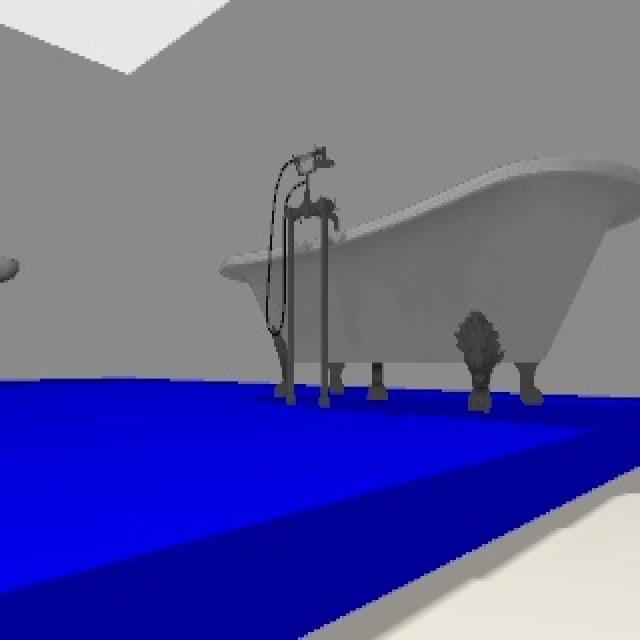bathtub: (222, 139, 640, 413)
